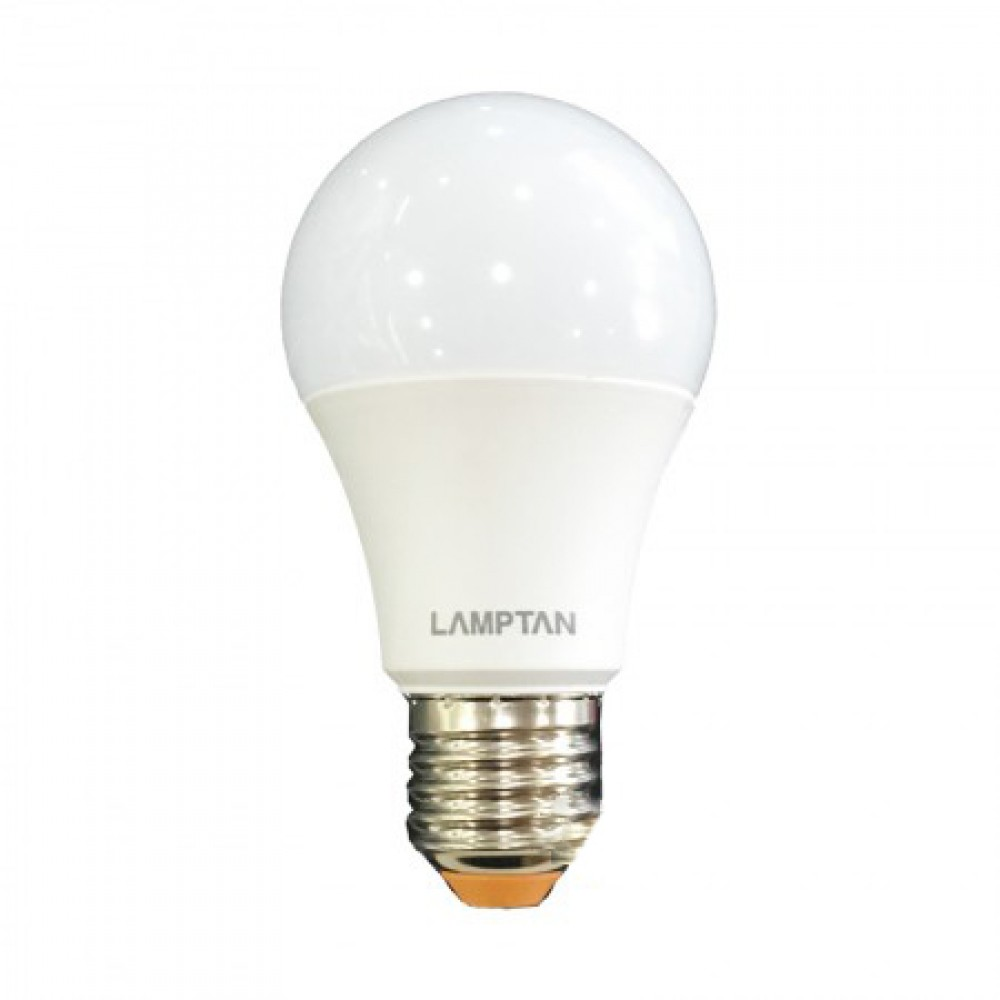Light_bulb: (265, 88, 731, 931)
